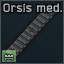Orsis T-5000M medium length rail: (0, 0, 64, 64)
